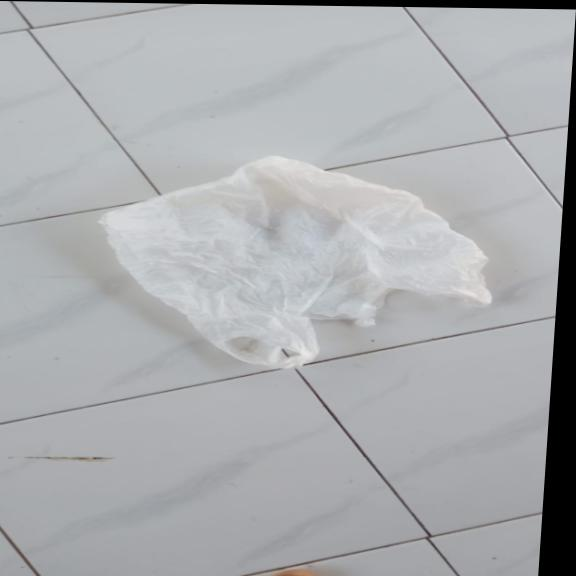Plastik: (89, 152, 501, 370)
